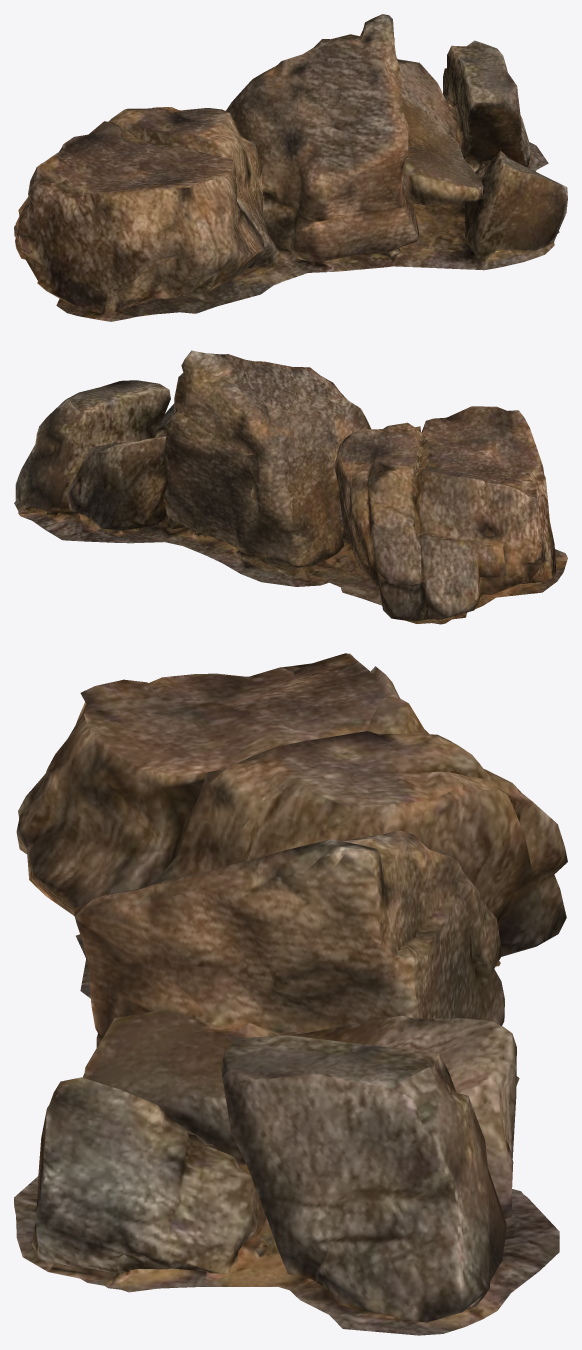
The model's file is boulder.glb.
3 views of the same model, one above another, from view 1: azimuth 30°, elevation 25°; view 2: azimuth 150°, elevation 25°; view 3: azimuth 270°, elevation 25° (orthographic). The views are drawn at different scales.
Parts seen in each view (by area): view 1: boulder_02; view 2: boulder_02; view 3: boulder_02.
Boxes of the visible parts, x1,y1,x2,y2 form: boulder_02: (14, 14, 567, 321); boulder_02: (14, 350, 567, 624); boulder_02: (14, 653, 567, 1335).
Bounding box in the file's own units: 2.52 × 0.8756 × 1.23.
1 material, 1 textured.
